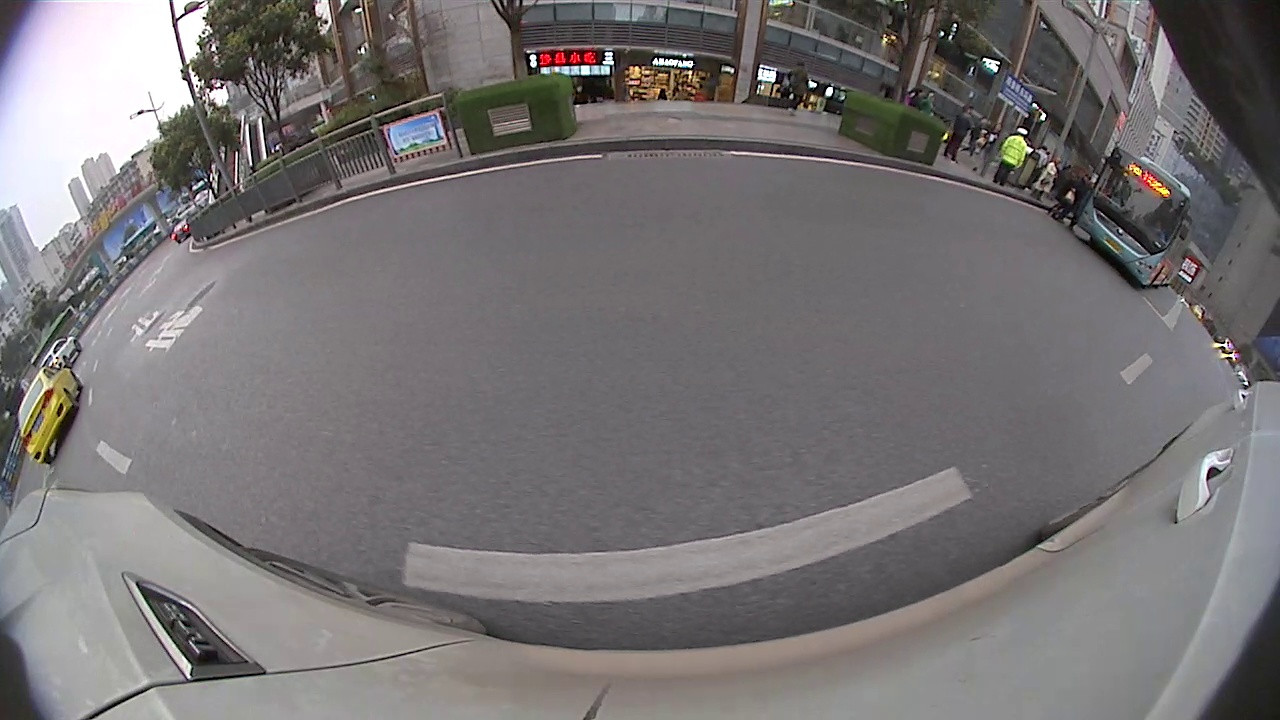car: (911, 155, 1142, 359), (328, 41, 614, 172), (891, 132, 993, 182), (58, 248, 119, 315)
front: (516, 100, 571, 151), (1097, 328, 1130, 358), (79, 285, 93, 301)
rear: (1018, 291, 1069, 336), (354, 126, 397, 170)
